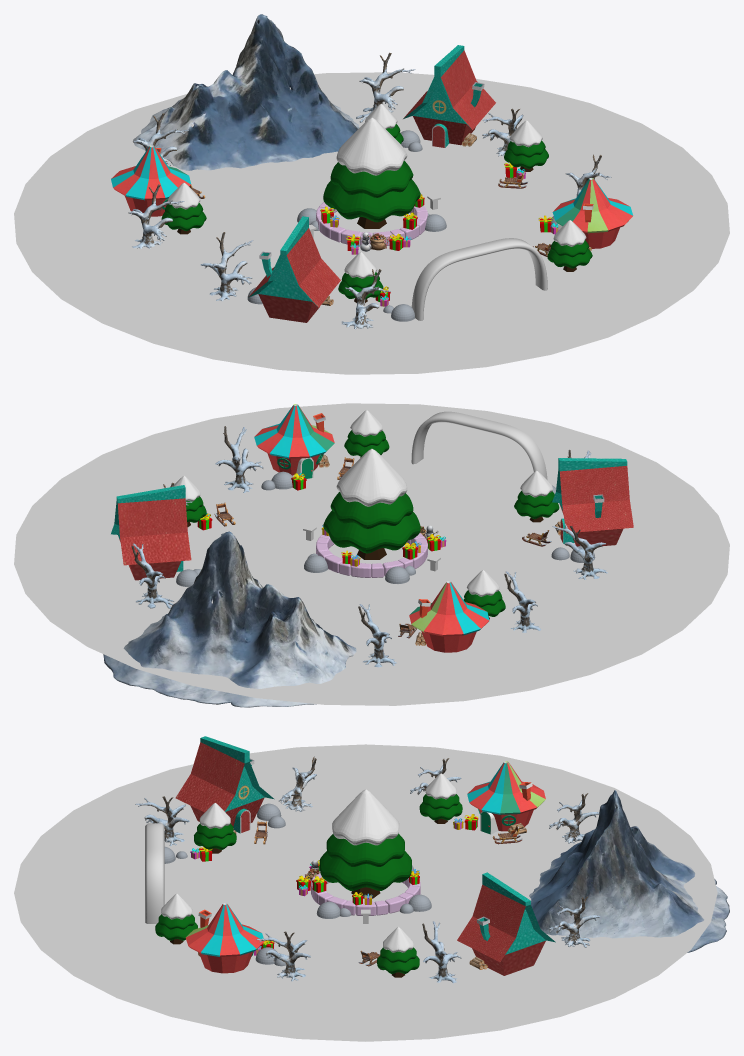
File: scena-transformed.glb
3 renders of one model, top to bottom at view 1: azimuth 30°, elevation 25°; view 2: azimuth 150°, elevation 25°; view 3: azimuth 270°, elevation 25°, orthographic.
Visible parts, largest first — view 1: Circle, Granroca, abr_1.001, Casa_4, Casa_2, Casa_1, Casa_3, NurbsPath, Arbol_2, Arbol_3, Arbol_5, Pared (+7 smaller); view 2: Circle, Granroca, abr_1.001, Casa_4, Casa_2, Casa_1, Casa_3, NurbsPath, Pared, abr_1, Arbol_2, Arbol_5 (+6 smaller); view 3: Circle, Granroca, abr_1.001, Casa_2, Casa_4, Casa_1, Casa_3, NurbsPath, Arbol_5, Arbol_3, abr_1, Pared (+7 smaller).
Part boxes in pixels (x1,y1,x2,y2): Circle: [14, 72, 729, 374]; Granroca: [133, 14, 359, 170]; abr_1.001: [323, 117, 420, 228]; Casa_4: [248, 216, 340, 322]; Casa_2: [403, 45, 495, 147]; Casa_1: [552, 178, 633, 248]; Casa_3: [111, 145, 191, 216]; NurbsPath: [411, 238, 547, 320]; Arbol_2: [547, 220, 592, 271]; Arbol_3: [504, 120, 548, 171]; Arbol_5: [161, 183, 206, 234]; Pared: [316, 202, 427, 245]; Circle: [14, 403, 729, 705]; Granroca: [103, 531, 356, 707]; abr_1.001: [323, 448, 420, 559]; Casa_4: [552, 458, 633, 546]; Casa_2: [111, 485, 191, 580]; Casa_1: [254, 404, 334, 478]; Casa_3: [409, 581, 489, 652]; NurbsPath: [411, 411, 547, 479]; Pared: [316, 533, 427, 577]; abr_1: [514, 470, 559, 522]; Arbol_2: [344, 410, 389, 457]; Arbol_5: [463, 570, 505, 619]; Circle: [14, 744, 717, 1041]; Granroca: [529, 790, 729, 952]; abr_1.001: [319, 789, 411, 898]; Casa_2: [457, 872, 555, 975]; Casa_4: [175, 736, 274, 833]; Casa_1: [185, 903, 264, 973]; Casa_3: [467, 761, 545, 834]; NurbsPath: [145, 823, 164, 923]; Arbol_5: [419, 773, 462, 823]; Arbol_3: [377, 927, 419, 977]; abr_1: [194, 803, 236, 853]; Pared: [311, 871, 420, 915].
Bounding box in the file's own units: 50 × 9.48 × 50.88.
Materials: 24 (9 with a texture image).
